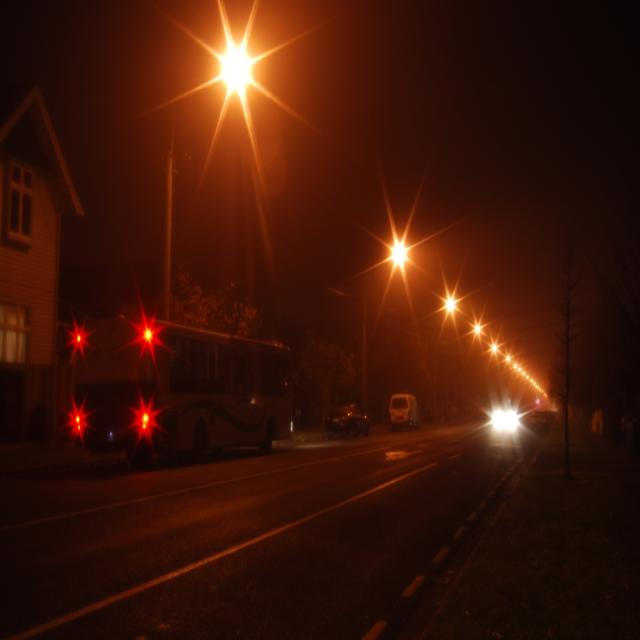Bus: (75, 295, 295, 467)
car: (462, 389, 535, 467), (317, 394, 380, 450), (374, 377, 426, 438)
